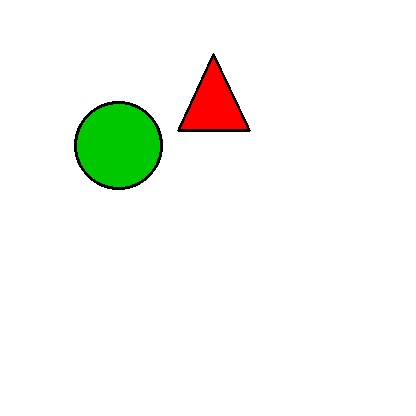circle: (75, 93, 161, 197)
triangle: (178, 54, 249, 130)
